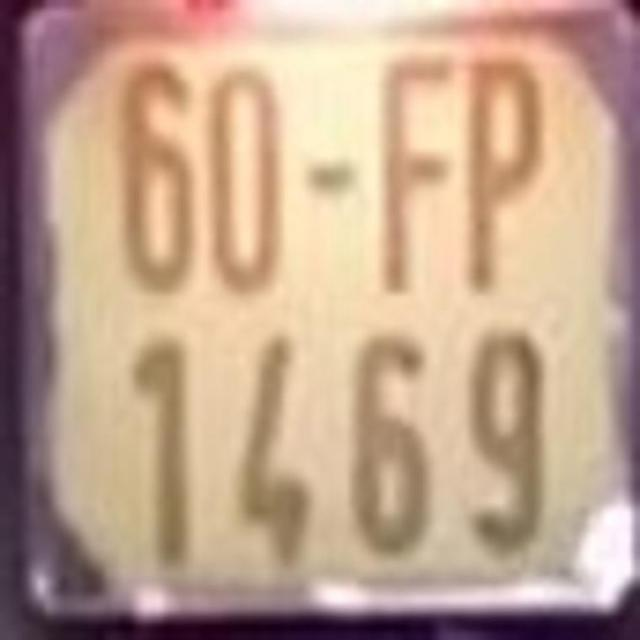0: (202, 55, 290, 296)
1: (122, 330, 208, 584)
4: (233, 327, 314, 580)
6: (344, 326, 436, 566), (116, 56, 200, 297)
9: (462, 325, 548, 554)
F: (371, 51, 458, 300)
P: (461, 48, 546, 299)
